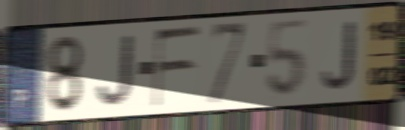5: (264, 16, 312, 102)
7: (207, 20, 249, 108)
8: (46, 34, 84, 114)
F: (151, 23, 203, 111)
J: (94, 31, 137, 109), (319, 19, 357, 93)
